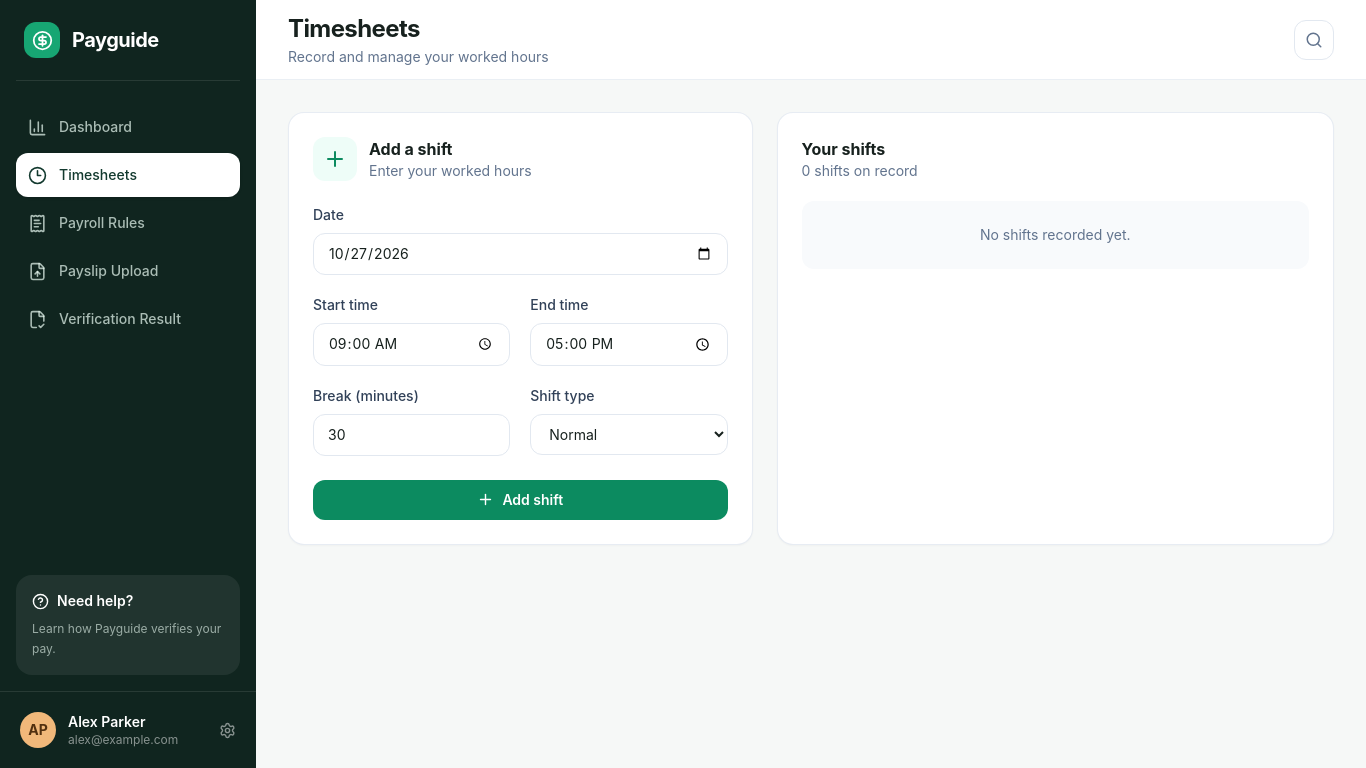
Test: Timesheets › shows a validation error instead of submitting when start and end time are equal
Expected: the text "No shifts recorded yet." is shown, [802,201,1309,269]
Replace the text in the time field labelled "End time" with "09:00": (629, 344) [530,323,728,366]
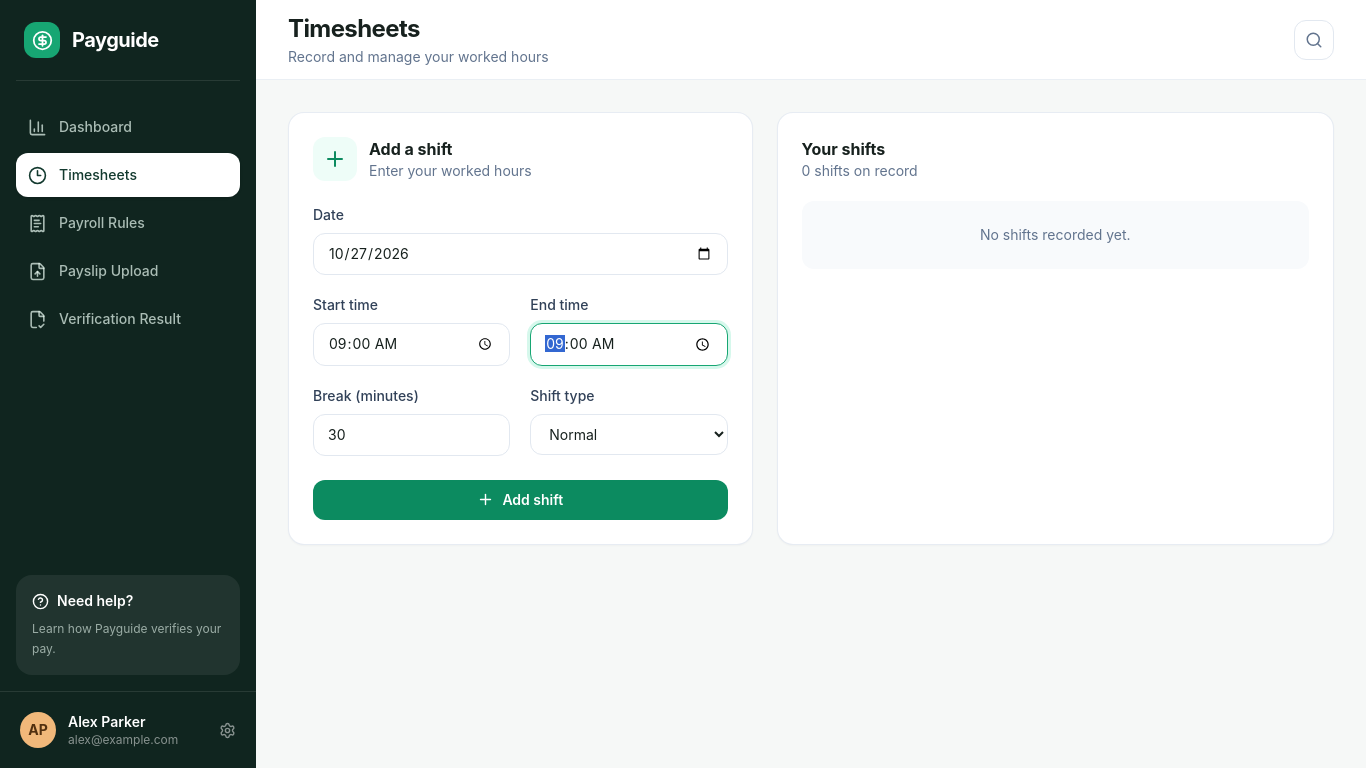
Click the button "Add shift": (520, 500) [313,480,728,520]
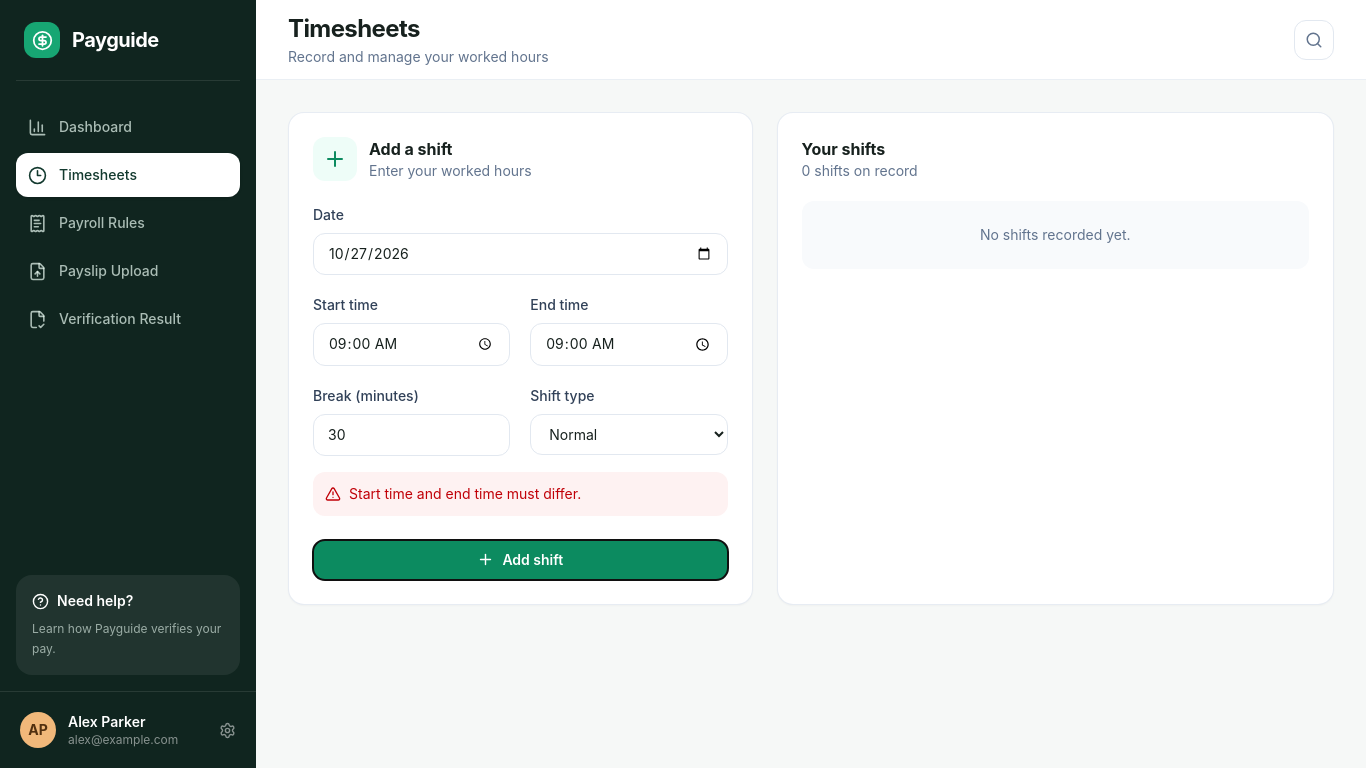
Now the text "Start time and end time must differ." is shown, box [313,472,728,516]
